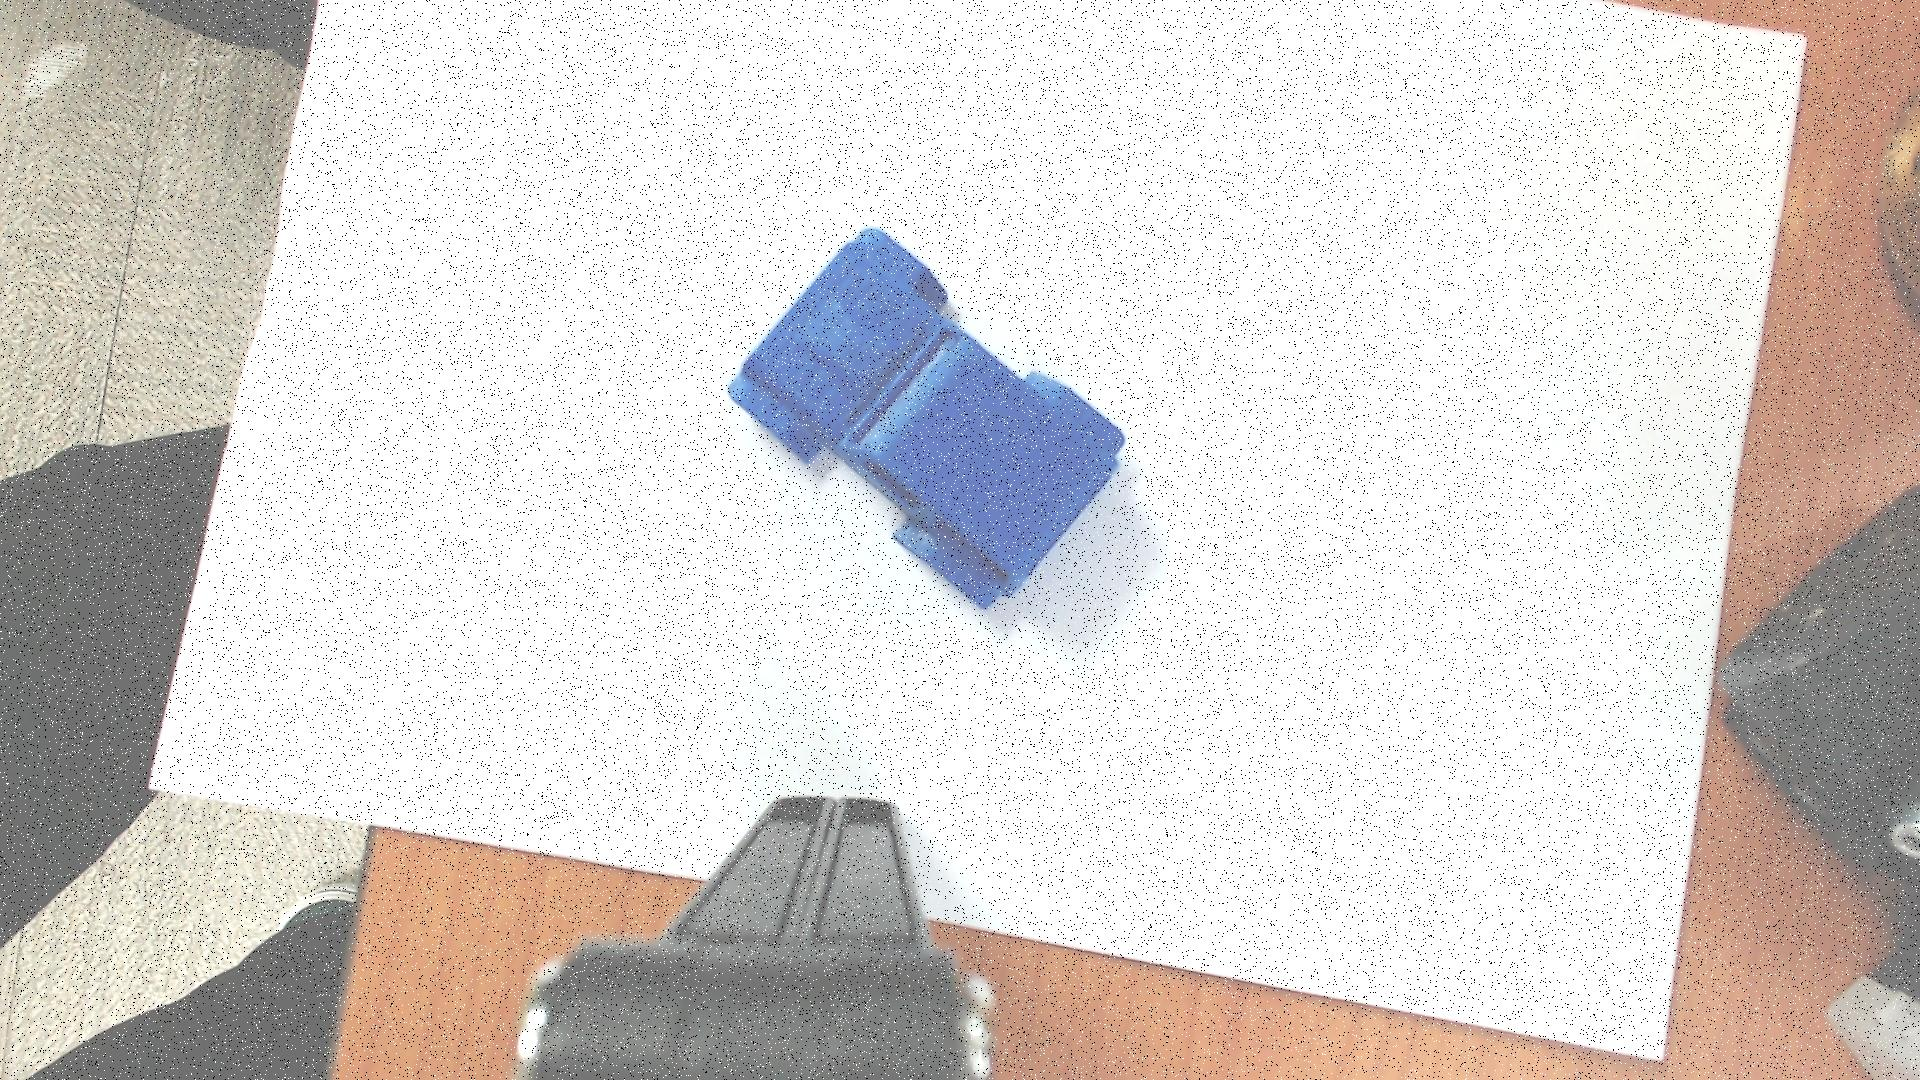Upper_ng: (729, 228, 1124, 608)
